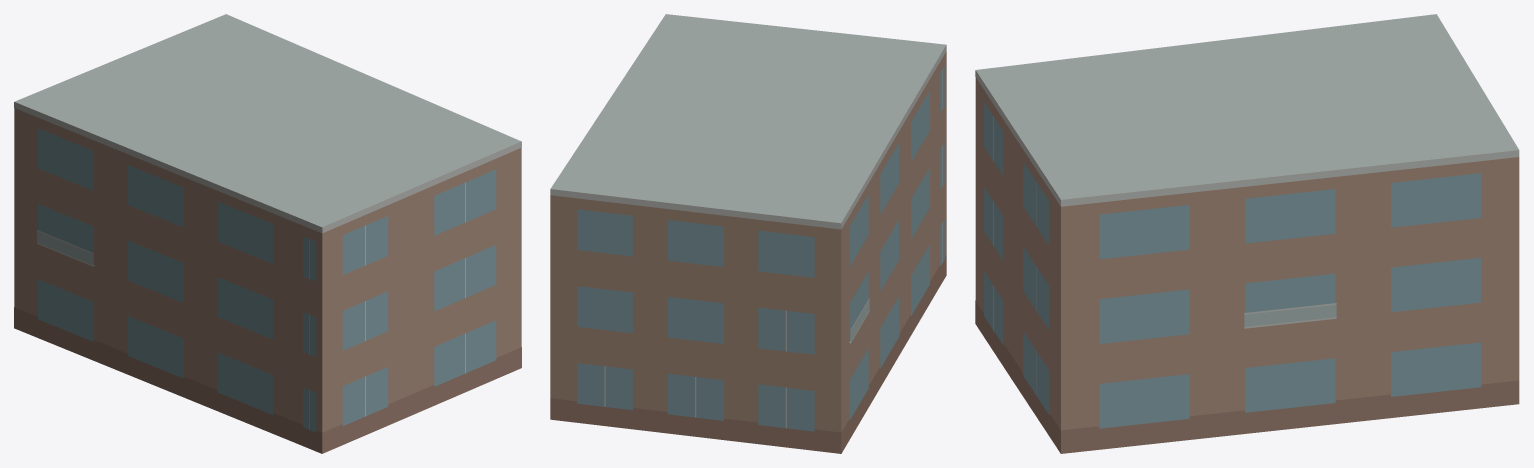
Rendered from survey-upis-32690755.glb.
The picture shows the model from 3 angles, left to right: view 1: azimuth 30°, elevation 25°; view 2: azimuth 150°, elevation 25°; view 3: azimuth 270°, elevation 25°; orthographic projection. The views are drawn at different scales.
Visible parts, largest first — view 1: survey-upis-32690755.tmp; view 2: survey-upis-32690755.tmp; view 3: survey-upis-32690755.tmp.
Part boxes in pixels (x1,y1,x2,y2): survey-upis-32690755.tmp: (14,14,521,453); survey-upis-32690755.tmp: (550,14,946,453); survey-upis-32690755.tmp: (975,14,1519,453).
Size of the model in its own units: 14.3 by 9.1 by 17.68.
